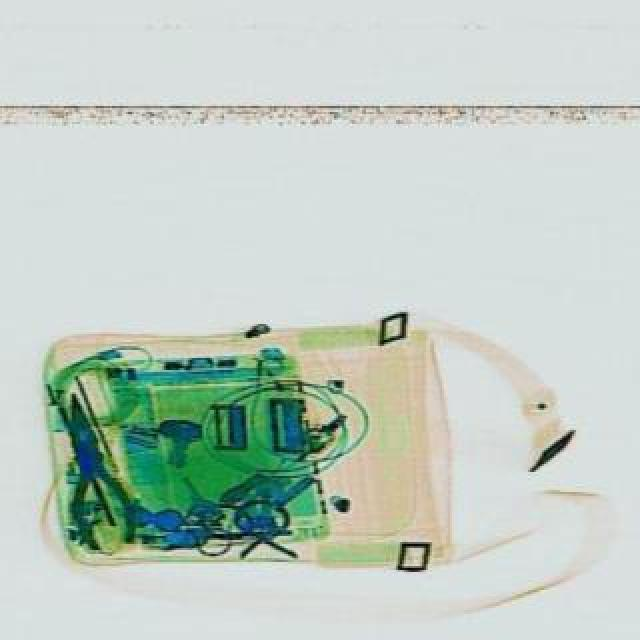wrench: (46, 386, 144, 550)
